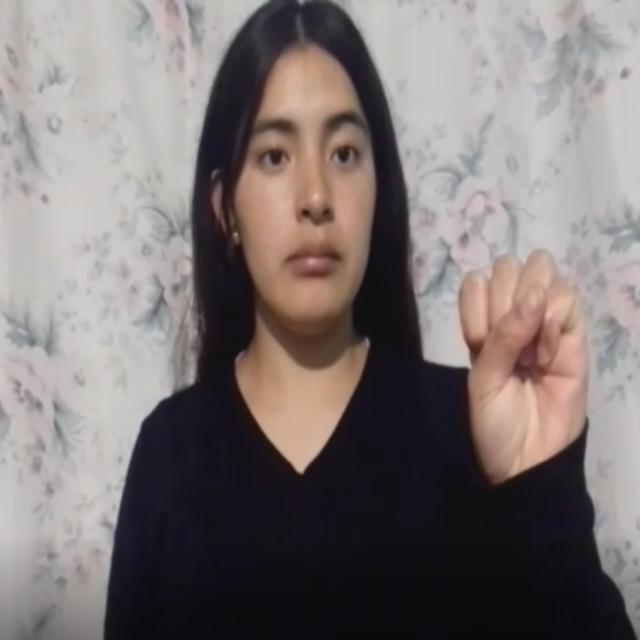S: (444, 234, 587, 486)
